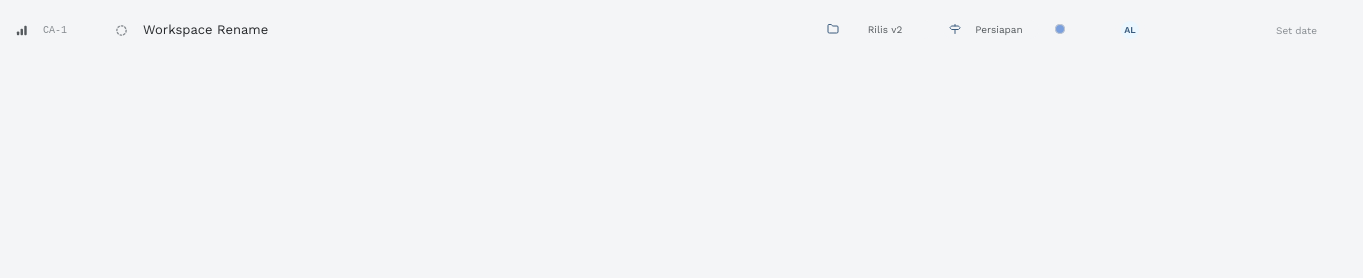
Test: TrackerRow › keeps an invalid date draft open when switching to another field
Click the button with aria-label "Date: Set date". click: (1297, 30)
box: left=1276, top=22, right=1317, bottom=38
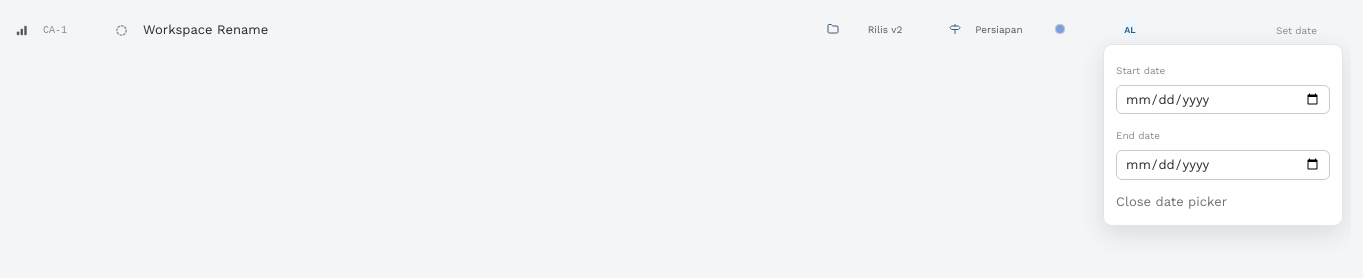
Type "2026-08-10" into the date field labelled "Start date". click: (1223, 99)
box: left=1116, top=84, right=1330, bottom=114
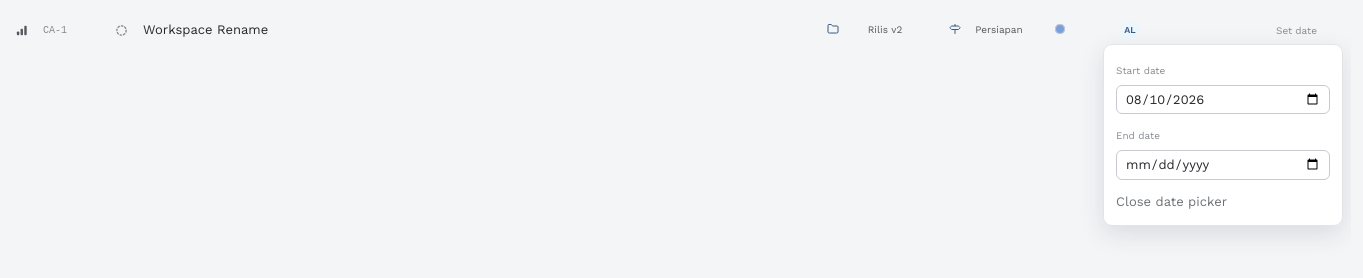
Type "2026-08-01" into the date field labelled "End date". click: (1223, 165)
box: left=1116, top=150, right=1330, bottom=180
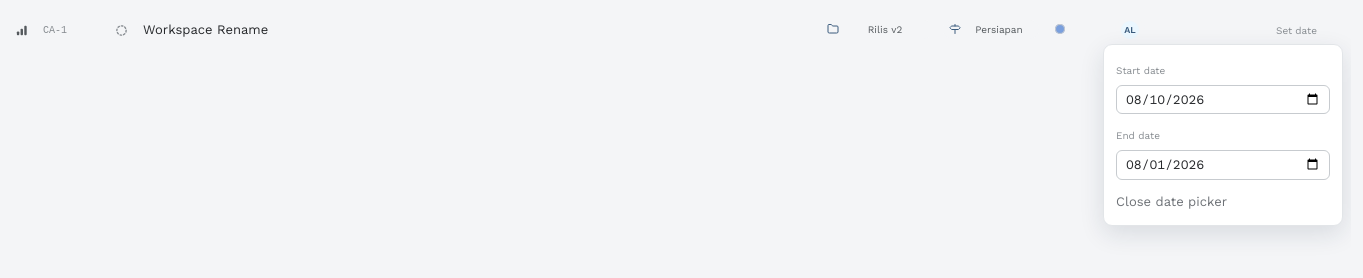
Click the button with aria-label "Project: Rilis v2". click: (877, 29)
box: left=821, top=20, right=933, bottom=38
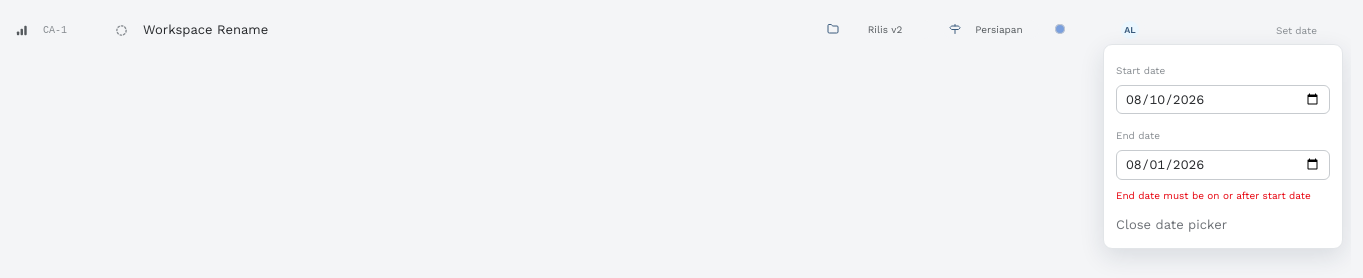
Check: the text "End date must be on or after start date" is shown, box left=1116, top=188, right=1330, bottom=202
